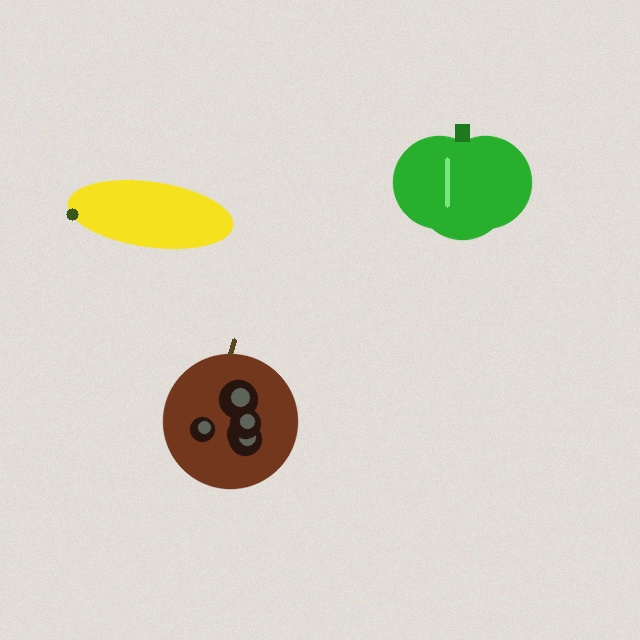Fresh banana: (63, 174, 237, 254)
Fresh bell pepper: (393, 124, 531, 239)
Rotten apple: (163, 340, 297, 488)
